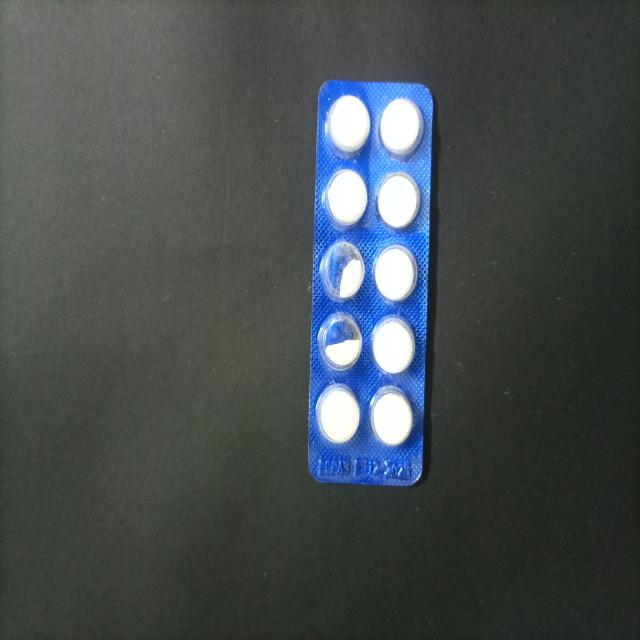defect: (318, 238, 368, 304), (316, 312, 365, 374)
